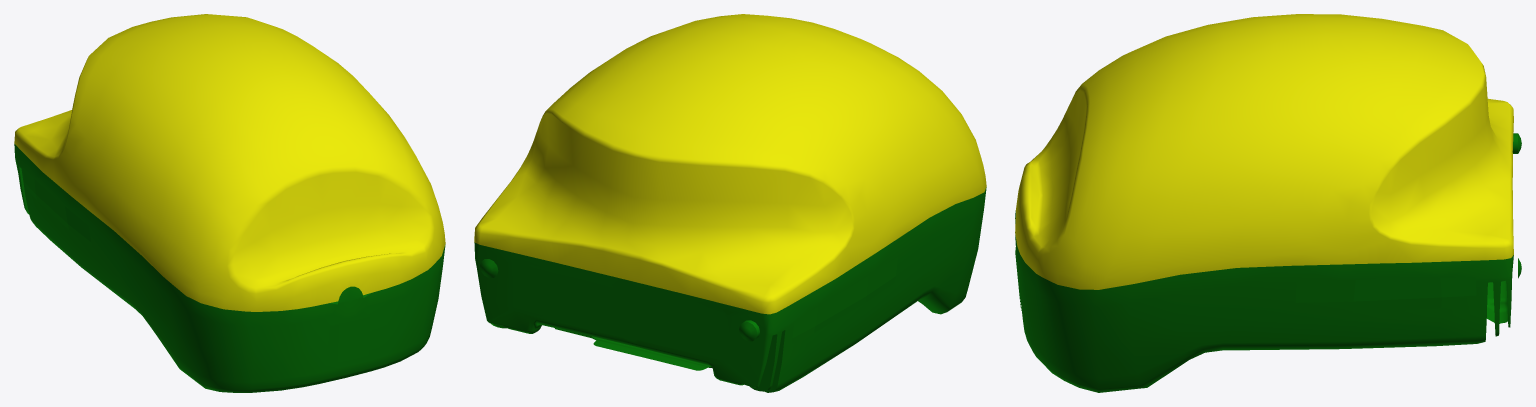
File: gps.gltf
The picture shows the model from 3 angles, left to right: view 1: azimuth 30°, elevation 25°; view 2: azimuth 150°, elevation 25°; view 3: azimuth 270°, elevation 25°; orthographic projection. The views are drawn at different scales.
Visible parts, largest first — view 1: 5060e.039; view 2: 5060e.039; view 3: 5060e.039.
Boxes of the visible parts, box(x1,y1,x2,y2) form: 5060e.039: box(14, 14, 445, 392); 5060e.039: box(474, 14, 986, 392); 5060e.039: box(1015, 14, 1521, 392).
Size of the model in its own units: 21.93 by 18.53 by 28.88.
